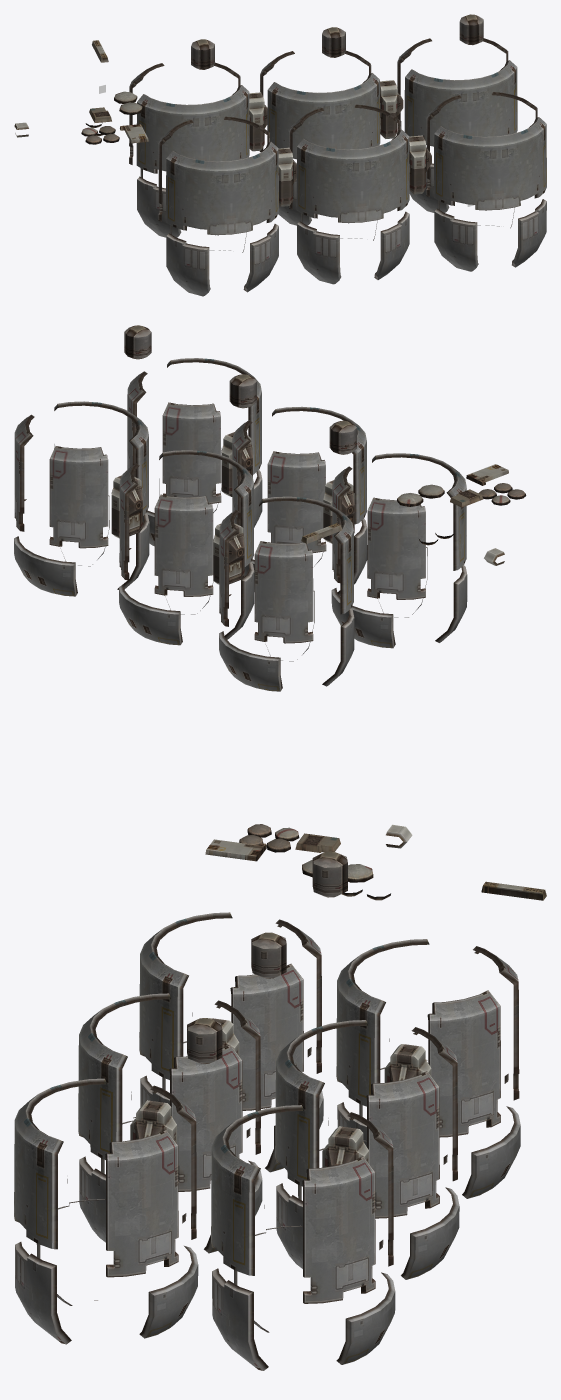
File: prop_static_tr1_container_01_05.glb
3 views of the same model, one above another, from view 1: azimuth 30°, elevation 25°; view 2: azimuth 150°, elevation 25°; view 3: azimuth 270°, elevation 25° (orthographic). The views are drawn at different scales.
Parts seen in each view (by area): view 1: tr1_container_01_05_mat01b_LOD0, tr1_container_01_05_mat01d_LOD0, tr1_container_01_05_mat01c_LOD0, tr1_container_01_05_mat01a_LOD0; view 2: tr1_container_01_05_mat01b_LOD0, tr1_container_01_05_mat01d_LOD0, tr1_container_01_05_mat01c_LOD0, tr1_container_01_05_mat01a_LOD0; view 3: tr1_container_01_05_mat01b_LOD0, tr1_container_01_05_mat01d_LOD0, tr1_container_01_05_mat01c_LOD0, tr1_container_01_05_mat01a_LOD0.
Part boxes in pixels (left/top/right/bottom): tr1_container_01_05_mat01b_LOD0: left=158, top=38, right=517, bottom=296; tr1_container_01_05_mat01d_LOD0: left=289, top=92, right=546, bottom=284; tr1_container_01_05_mat01c_LOD0: left=129, top=62, right=249, bottom=237; tr1_container_01_05_mat01a_LOD0: left=14, top=14, right=483, bottom=206; tr1_container_01_05_mat01b_LOD0: left=14, top=401, right=467, bottom=648; tr1_container_01_05_mat01d_LOD0: left=127, top=358, right=367, bottom=595; tr1_container_01_05_mat01c_LOD0: left=219, top=496, right=354, bottom=691; tr1_container_01_05_mat01a_LOD0: left=111, top=325, right=526, bottom=584; tr1_container_01_05_mat01b_LOD0: left=139, top=912, right=459, bottom=1370; tr1_container_01_05_mat01d_LOD0: left=14, top=993, right=262, bottom=1344; tr1_container_01_05_mat01c_LOD0: left=336, top=939, right=520, bottom=1198; tr1_container_01_05_mat01a_LOD0: left=130, top=824, right=546, bottom=1167.
Size of what is drawn, in the model's own units: 12.06 by 6.04 by 7.99.
6 materials, 4 textured.
